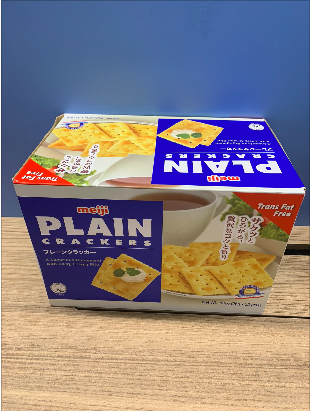Crackers_800-899g: (37, 154, 274, 308)
